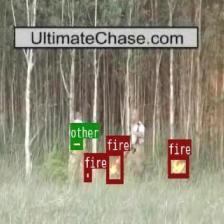fire: (106, 151, 122, 182), (168, 155, 188, 177), (84, 168, 91, 180)
